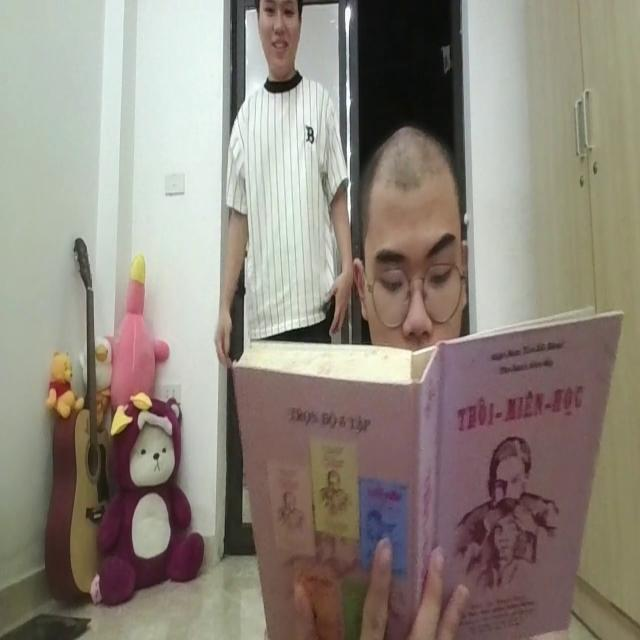book: (210, 296, 621, 636)
extra_person: (210, 0, 365, 400)
student: (349, 122, 474, 369)
